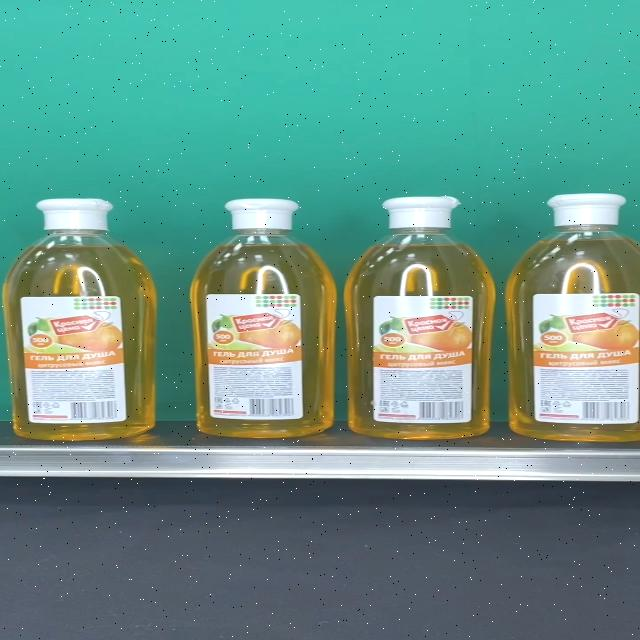Bottle: (4, 198, 156, 441), (344, 196, 495, 440), (191, 198, 338, 438), (506, 194, 640, 442)
Cap: (382, 196, 462, 230), (34, 198, 114, 231), (546, 194, 626, 226), (224, 198, 299, 230)
